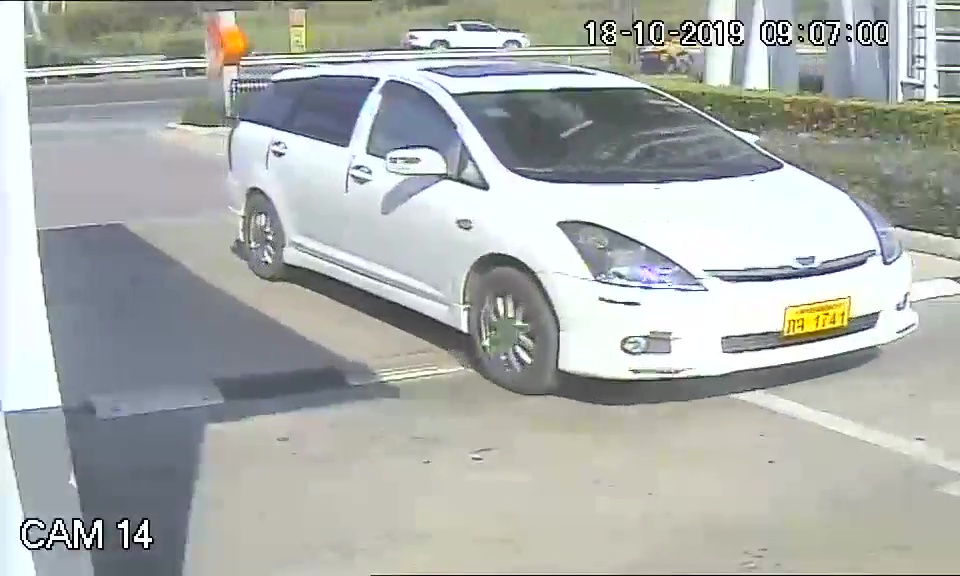sedan: (223, 55, 918, 400)
